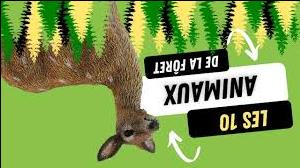Non_Gorille: (32, 43, 160, 160)
